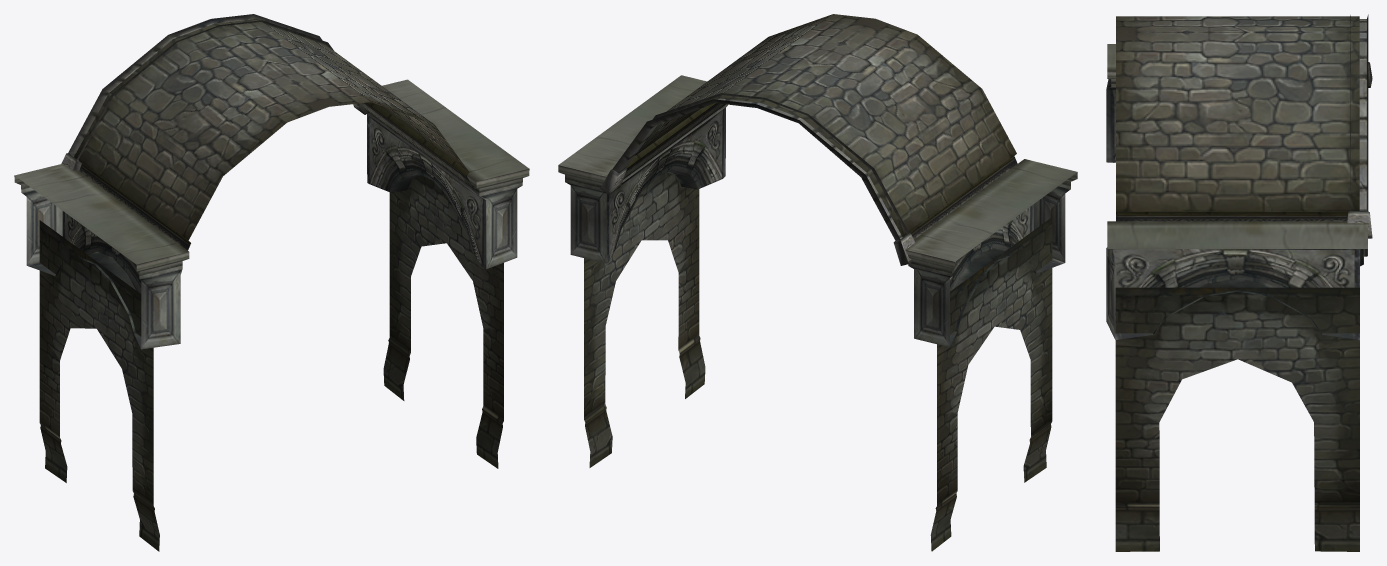
Rendered from DN_1_4_ldao03_c.FBX.
3 renders of one model, left to right at view 1: azimuth 30°, elevation 25°; view 2: azimuth 150°, elevation 25°; view 3: azimuth 270°, elevation 25°, orthographic. The views are drawn at different scales.
Parts seen in each view (by area): view 1: DN_1_4_ldao03_c; view 2: DN_1_4_ldao03_c; view 3: DN_1_4_ldao03_c.
Part boxes in pixels (x1,y1,x2,y2): DN_1_4_ldao03_c: [14, 14, 529, 551]; DN_1_4_ldao03_c: [558, 14, 1077, 551]; DN_1_4_ldao03_c: [1106, 14, 1372, 551].
Size of the model in its own units: 902 by 888 by 494.
